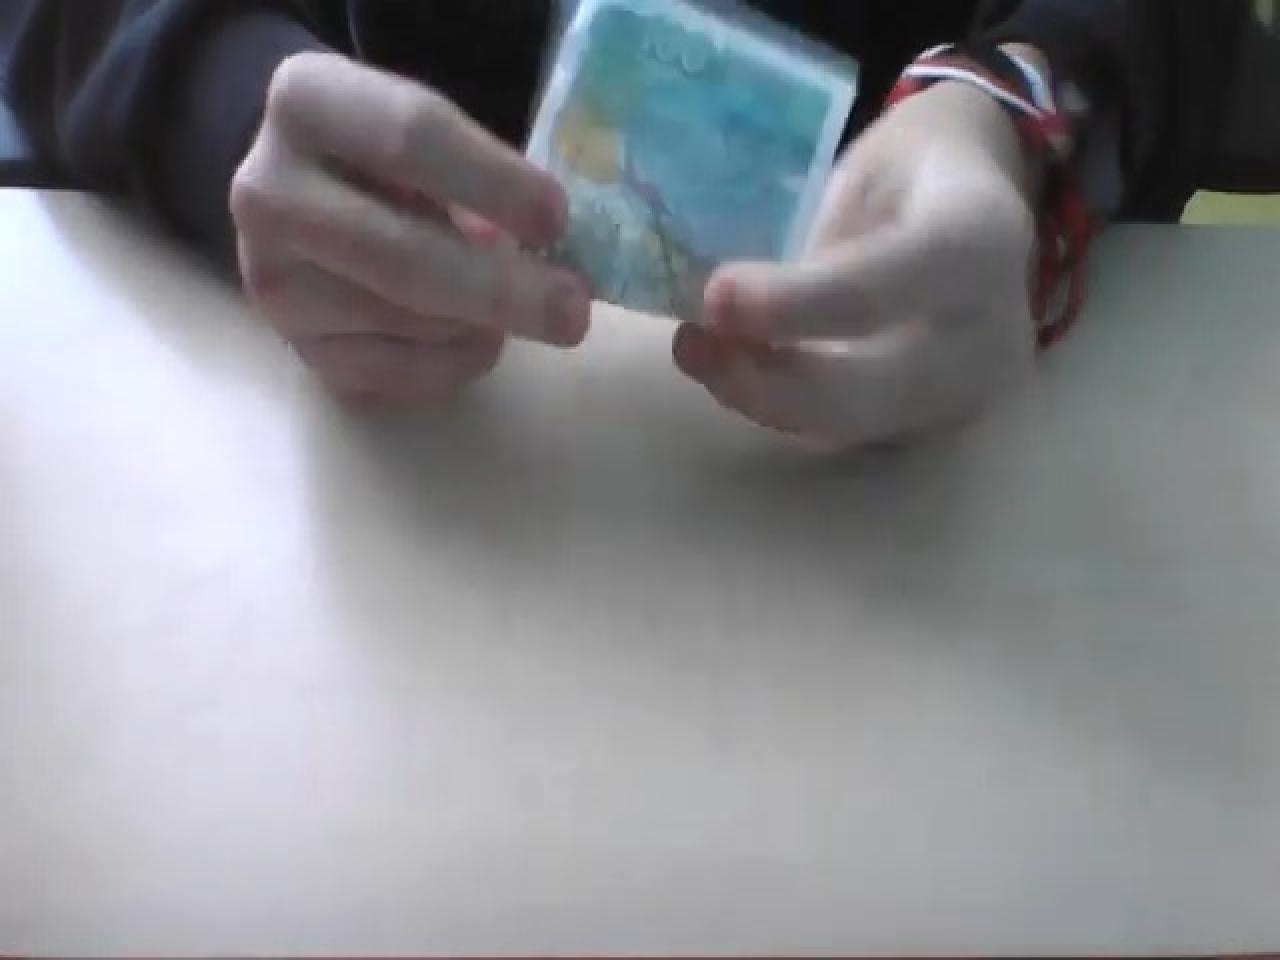100leva: (518, 0, 858, 331)
